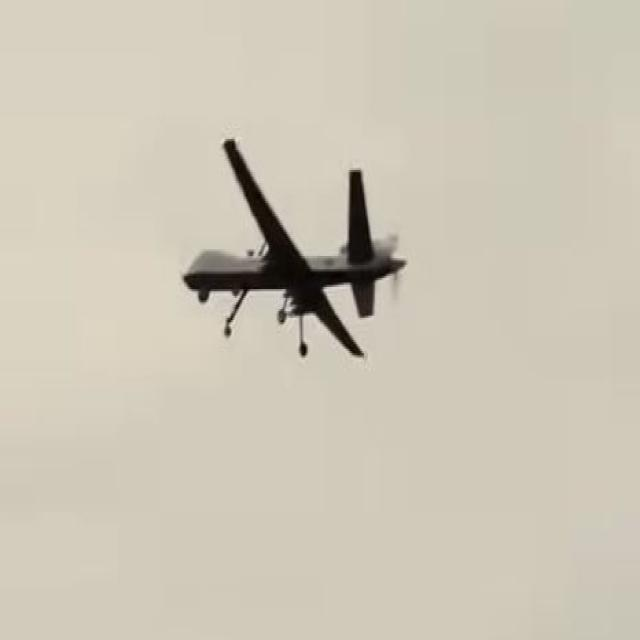iha: (179, 132, 409, 363)
